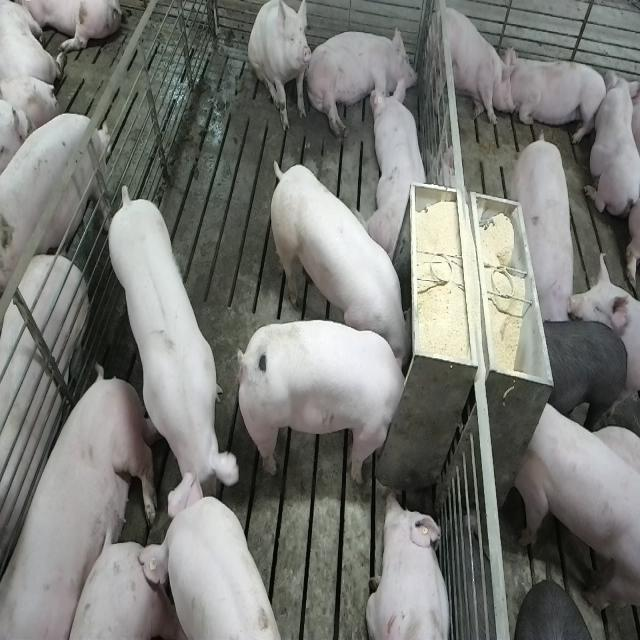Feeding: (264, 159, 412, 367), (232, 318, 408, 485)
Lateral_lying: (4, 366, 160, 640), (303, 23, 419, 138)
Sitting: (248, 2, 312, 132)
Standing: (108, 186, 240, 534), (0, 251, 88, 613), (515, 394, 638, 614), (136, 490, 286, 640), (0, 106, 110, 308), (511, 128, 580, 326), (428, 3, 510, 132), (541, 316, 630, 426)
Sternal_lying: (365, 490, 453, 640), (366, 75, 432, 258), (508, 43, 610, 141), (584, 62, 638, 220)
